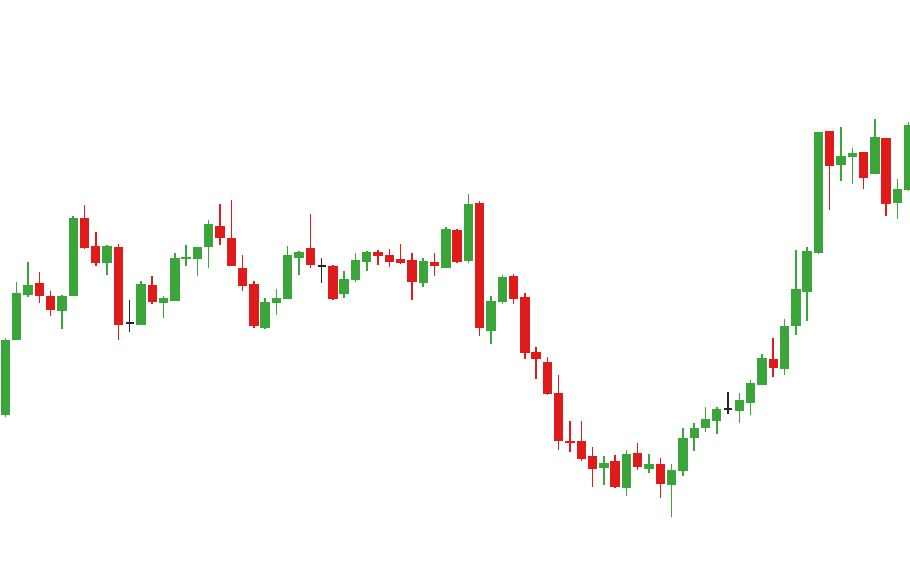buy: (158, 256, 272, 334), (55, 247, 148, 339)
